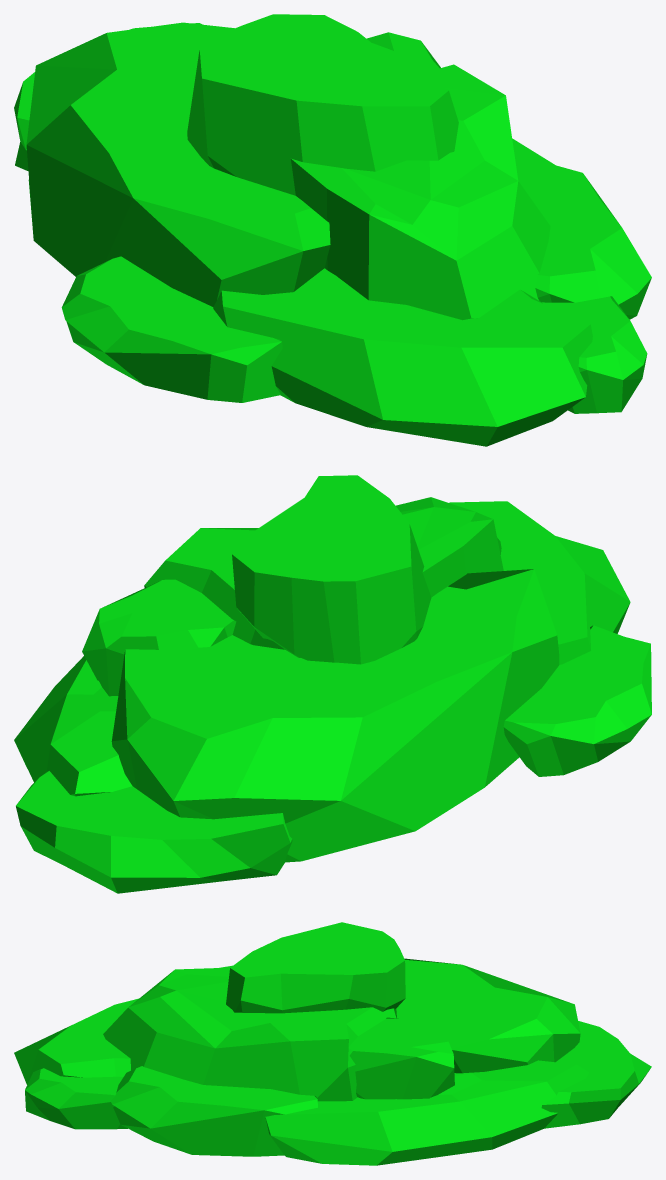
The model's file is SM_QuarryRocks3.fbx.
3 views of the same model, one above another, from view 1: azimuth 30°, elevation 25°; view 2: azimuth 150°, elevation 25°; view 3: azimuth 270°, elevation 25° (orthographic). The views are drawn at different scales.
Visible parts, largest first — view 1: SM_QuarryRocks3; view 2: SM_QuarryRocks3; view 3: SM_QuarryRocks3.
Part boxes in pixels (x1,y1,x2,y2): SM_QuarryRocks3: (14,14,651,446); SM_QuarryRocks3: (14,475,651,893); SM_QuarryRocks3: (14,922,651,1165).
Size of the model in its own units: 1330 by 487 by 2116.
